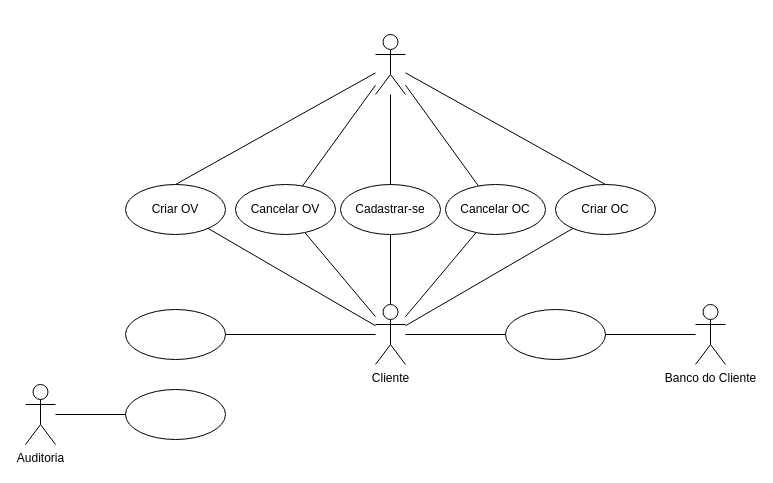
Some shapes in this 773 by 483 pixel diagram are drawn without their labels. The box of each missing label's shape, as (x1, y1, x2, y2) in pixels:
Broker: (374, 34, 406, 94)
Gerar relatório de posições: (124, 388, 226, 440)
Gerar relatório individual: (124, 308, 226, 360)
Transferir fundos: (504, 308, 606, 360)
